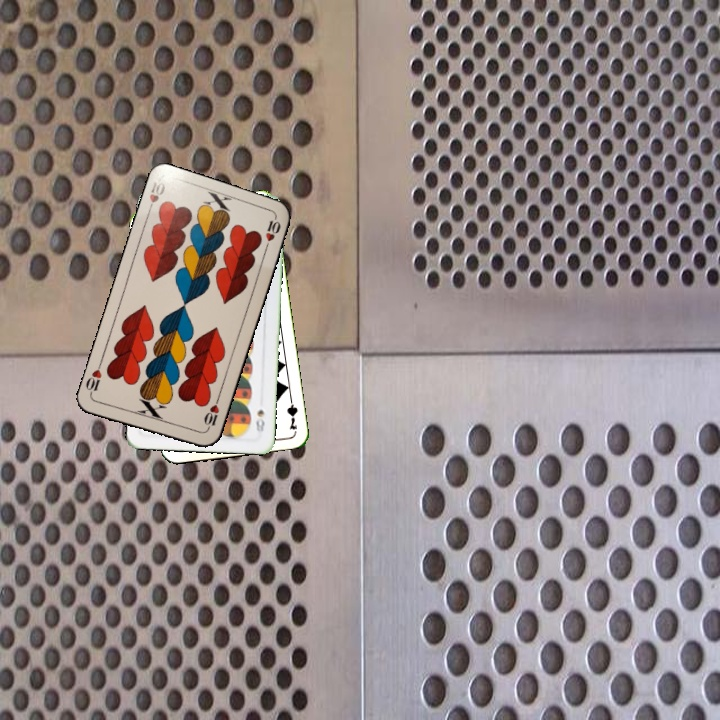G7: (283, 391, 300, 432)
H10: (143, 178, 168, 216), (200, 394, 222, 434)
S8: (252, 405, 267, 436)
